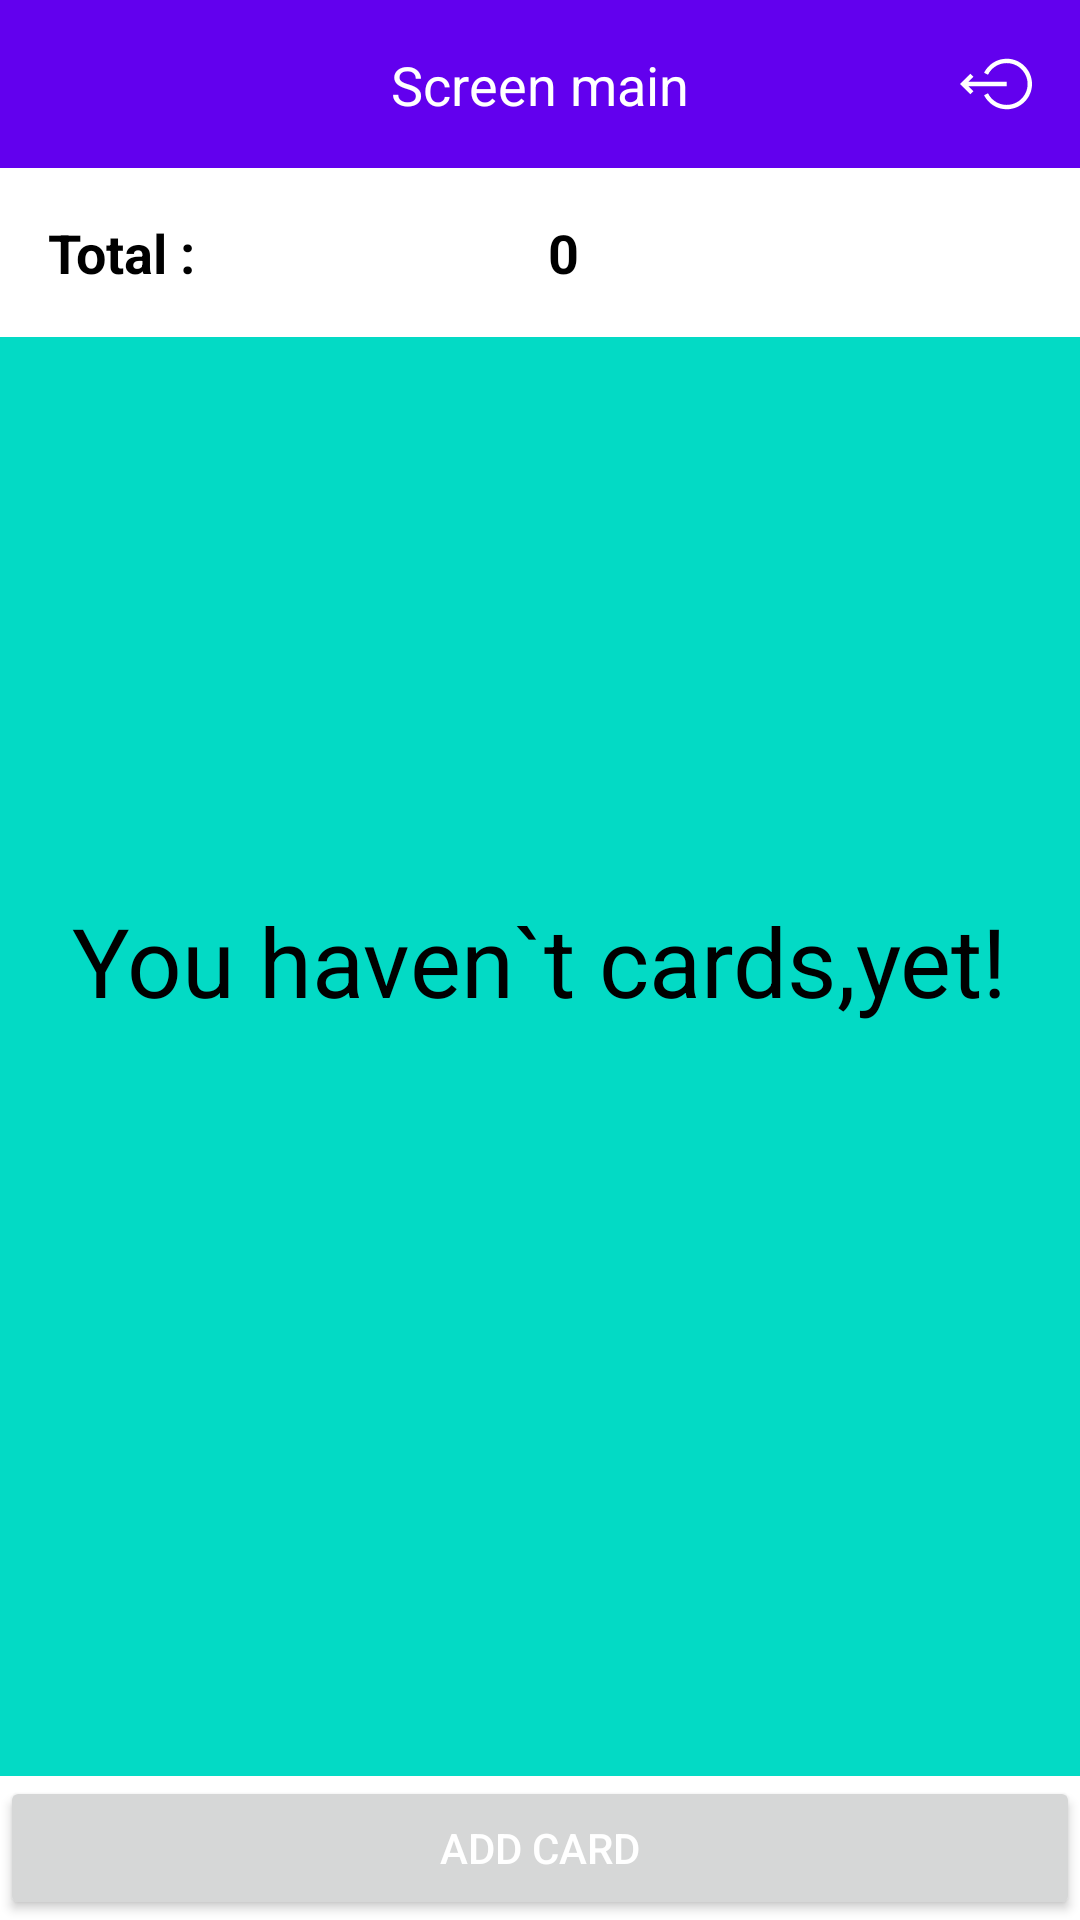

Screen size 1080x1920. Icon name, then its center in pixels as [x,y]:
log out: [996,84]
